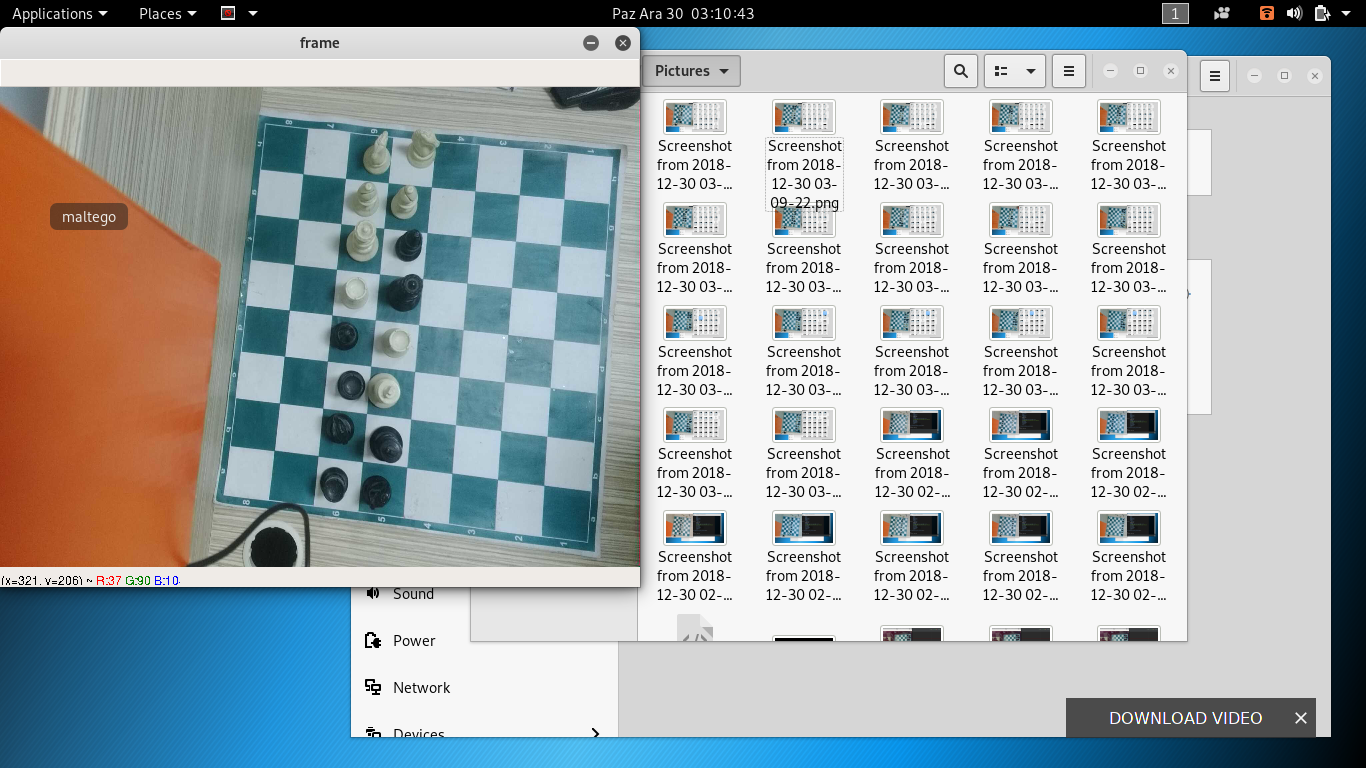BeyazFil: (392, 185, 420, 220), (354, 181, 381, 216)
BeyazSah: (366, 372, 403, 411)
BeyazVezir: (343, 219, 379, 261)
SiyahAt: (360, 129, 394, 176), (405, 127, 438, 169), (361, 473, 394, 512), (327, 411, 356, 443)
SiyahFil: (396, 229, 424, 261), (329, 323, 358, 348)
SiyahKale: (320, 466, 351, 503), (336, 368, 367, 400), (341, 277, 368, 310), (382, 327, 410, 357)
SiyahSah: (370, 426, 405, 462)
SiyahVezir: (386, 275, 423, 311)
